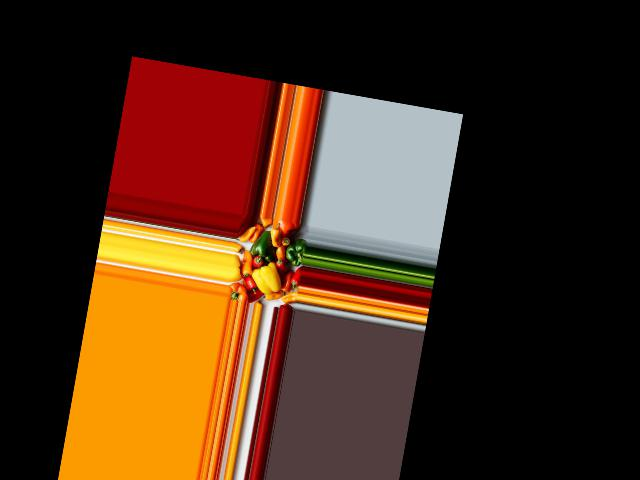bell_pepper: (287, 266, 303, 290)
